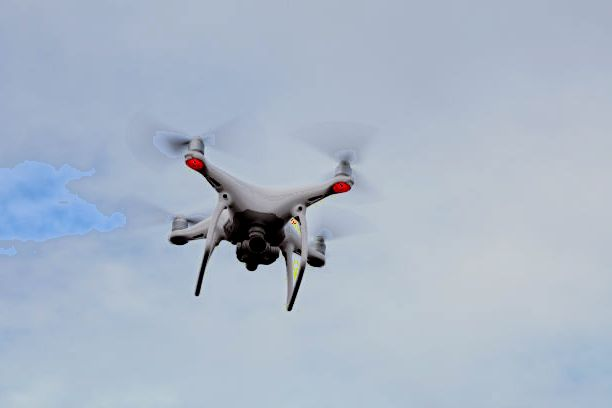Drone: (136, 112, 374, 319)
